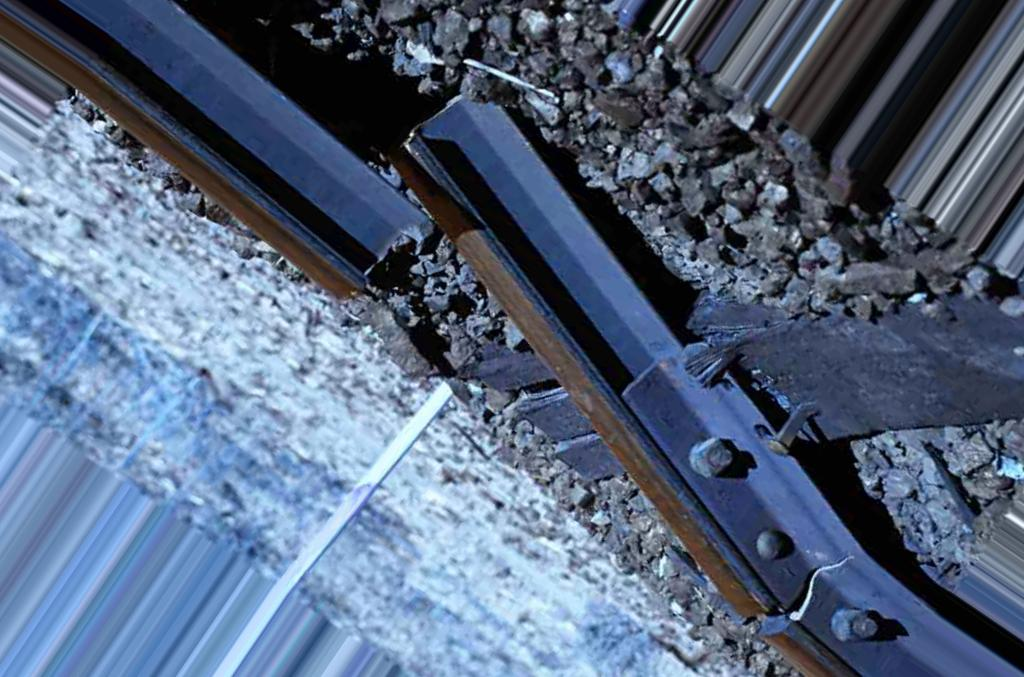tracks_fault: (372, 94, 544, 324)
